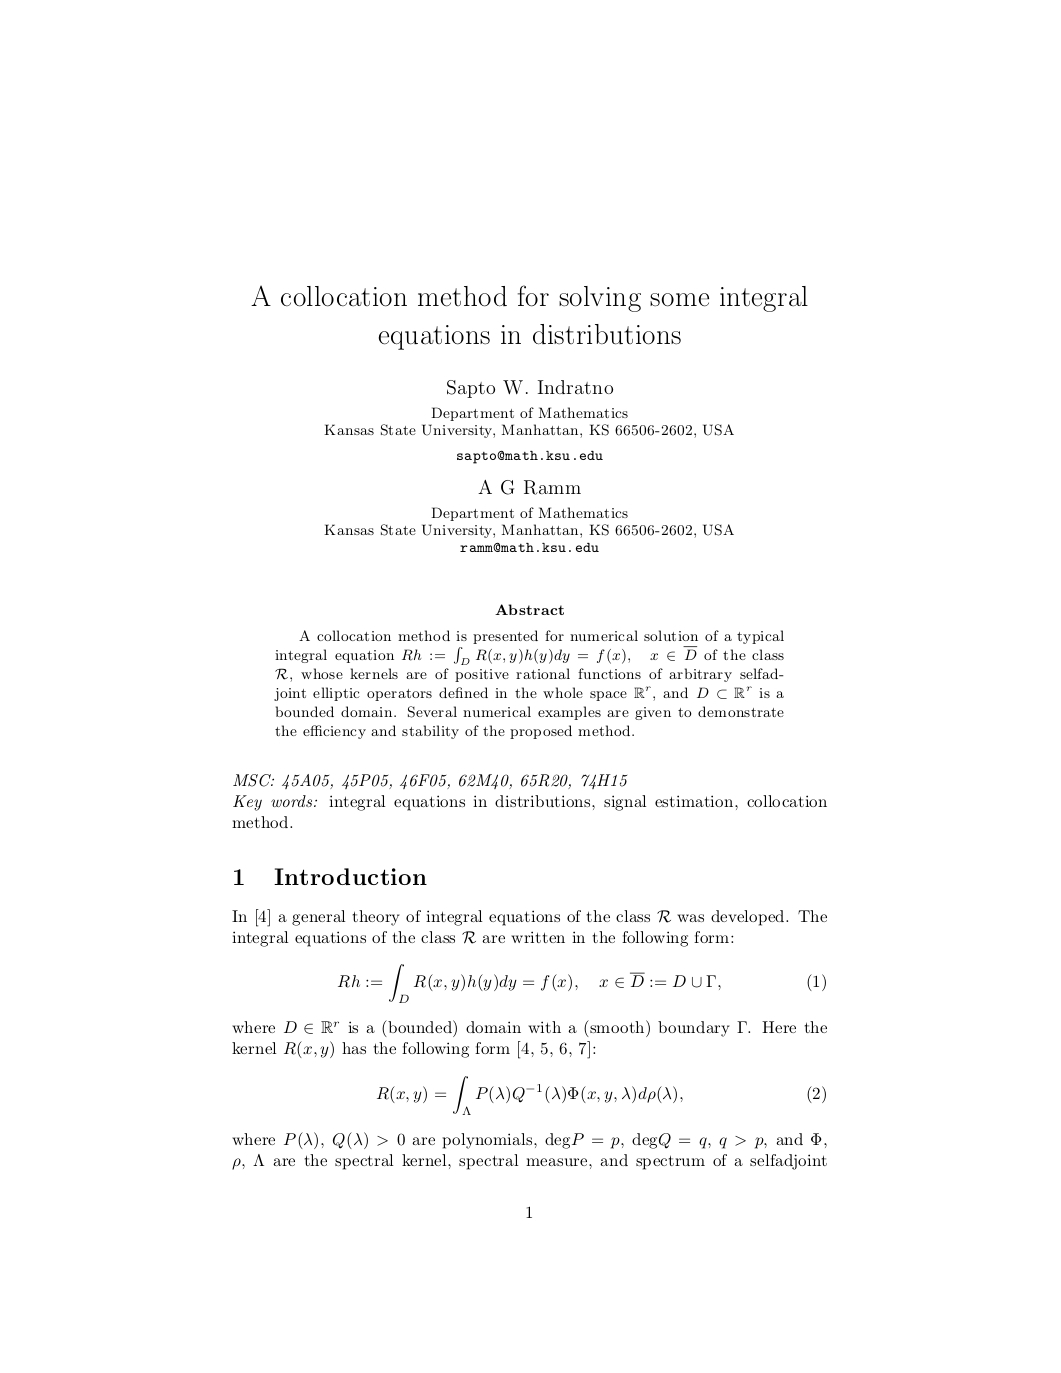formula: (337, 962, 825, 1003), (376, 1075, 825, 1114)
